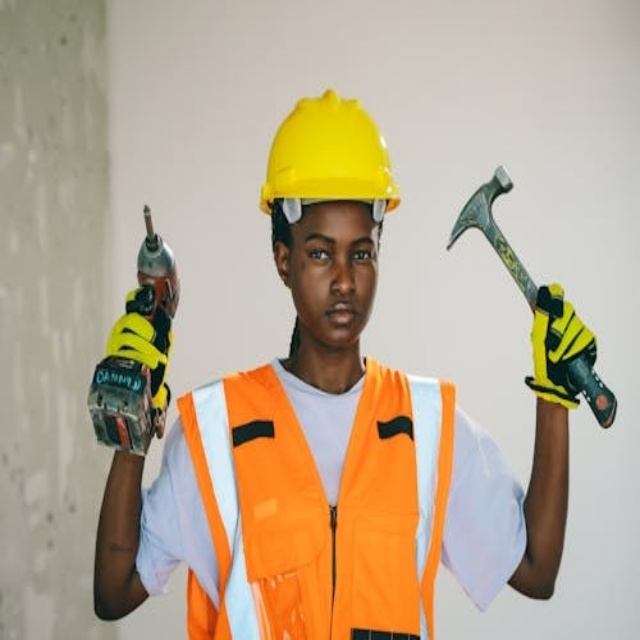Guantes: (525, 282, 605, 413), (102, 288, 176, 423)
Sin_gafas: (296, 230, 378, 271)
Sin_mascara: (314, 297, 365, 343)
